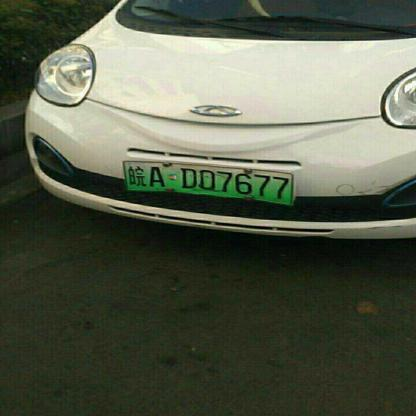lp: (123, 161, 294, 206)
